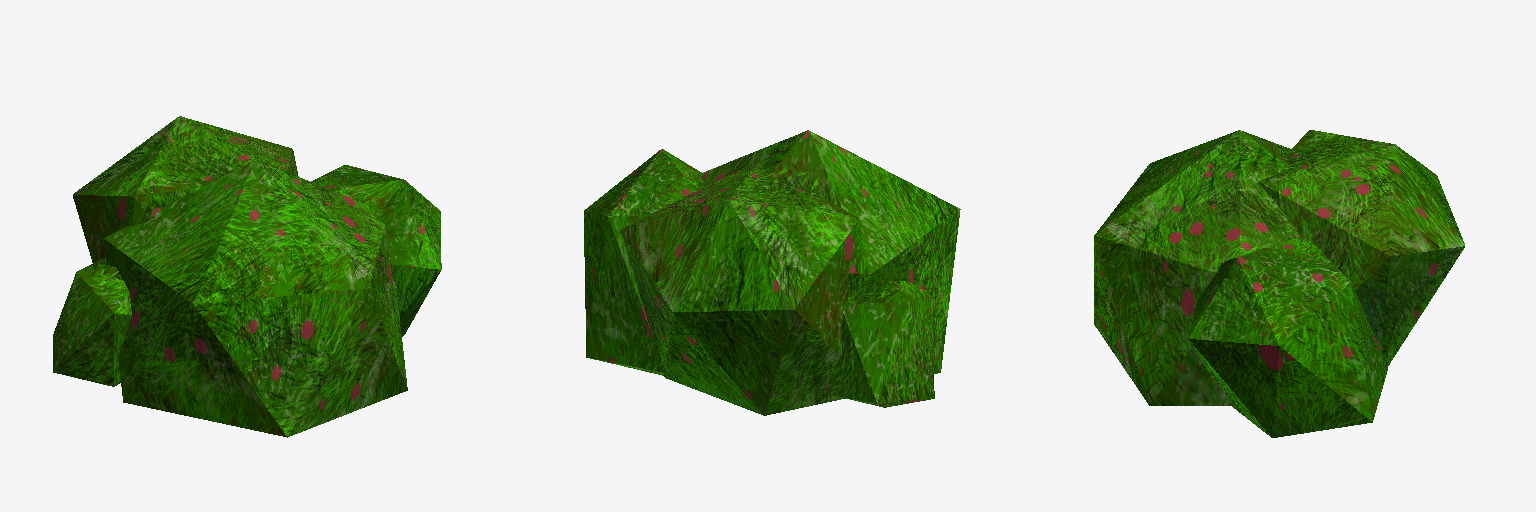
3 renders of one model, left to right at view 1: azimuth 30°, elevation 25°; view 2: azimuth 150°, elevation 25°; view 3: azimuth 270°, elevation 25°, orthographic.
Visible parts, largest first — view 1: Icosphere.002; view 2: Icosphere.002; view 3: Icosphere.002.
Part boxes in pixels (x1,y1,x2,y2): Icosphere.002: (53,116,441,437); Icosphere.002: (584,130,960,415); Icosphere.002: (1094,130,1464,437).
Size of the model in its own units: 1.35 by 0.8109 by 1.18.
Materials: 1 (1 with a texture image).